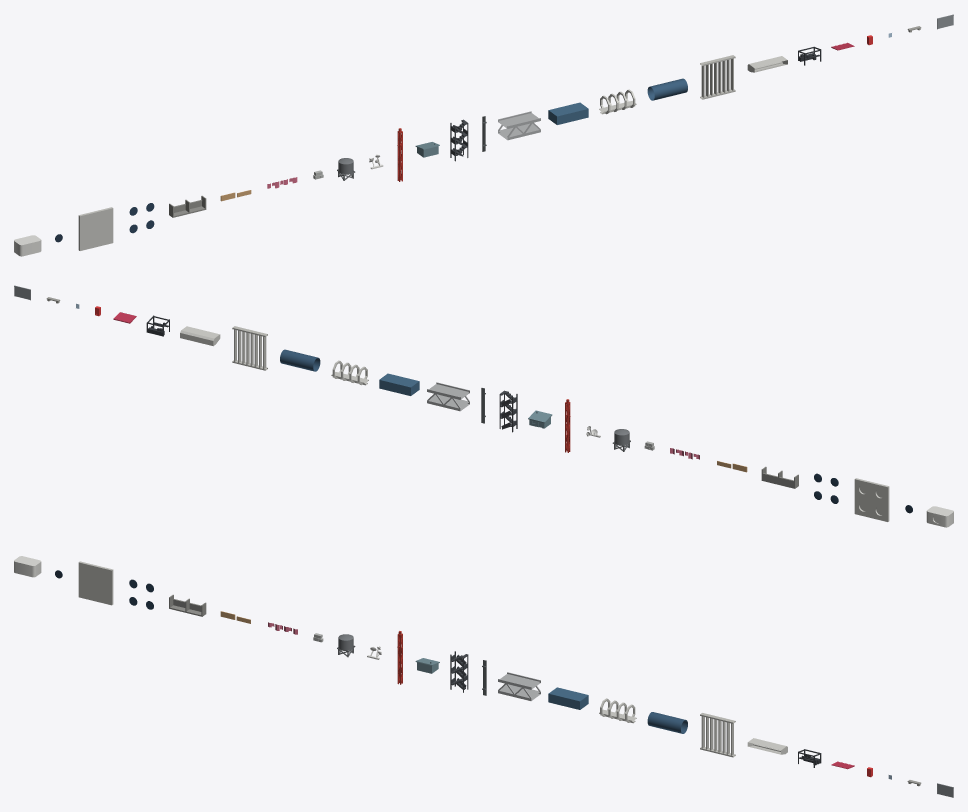
Rendered from SouthGridKit.fbx.
3 views of the same model, one above another, from view 1: azimuth 30°, elevation 25°; view 2: azimuth 150°, elevation 25°; view 3: azimuth 330°, elevation 25° (orthographic).
Parts seen in each view (by area): view 1: porthole_panel, louvre_fins, bridge_truss, bridge_truss_glass, bridge_tube_glass, ext_stair; view 2: porthole_panel, louvre_fins, bridge_truss, bridge_truss_glass, bridge_tube_glass, ext_stair, tray_edge; view 3: porthole_panel, louvre_fins, bridge_truss, bridge_truss_glass, bridge_tube_glass, ext_stair.
Boxes of the visible parts, x1,y1,x2,y2 form: porthole_panel: (78, 207, 113, 250); louvre_fins: (700, 55, 735, 99); bridge_truss: (498, 111, 540, 140); bridge_truss_glass: (548, 102, 588, 124); bridge_tube_glass: (647, 78, 687, 100); ext_stair: (450, 119, 468, 161); porthole_panel: (854, 478, 889, 521); louvre_fins: (232, 326, 267, 370); bridge_truss: (427, 382, 469, 411); bridge_truss_glass: (379, 373, 419, 395); bridge_tube_glass: (280, 349, 320, 371); ext_stair: (499, 390, 517, 432); tray_edge: (180, 326, 220, 346); porthole_panel: (78, 561, 113, 605); louvre_fins: (700, 713, 735, 757); bridge_truss: (498, 672, 540, 700); bridge_truss_glass: (548, 687, 588, 709); bridge_tube_glass: (647, 712, 687, 733); ext_stair: (450, 651, 468, 692).
Bounding box in the file's own units: 1124 × 60 × 20.
